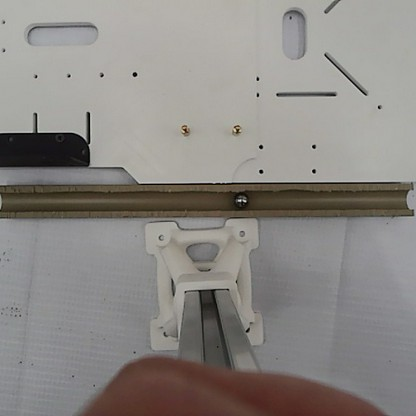ironball: (232, 190, 249, 210)
